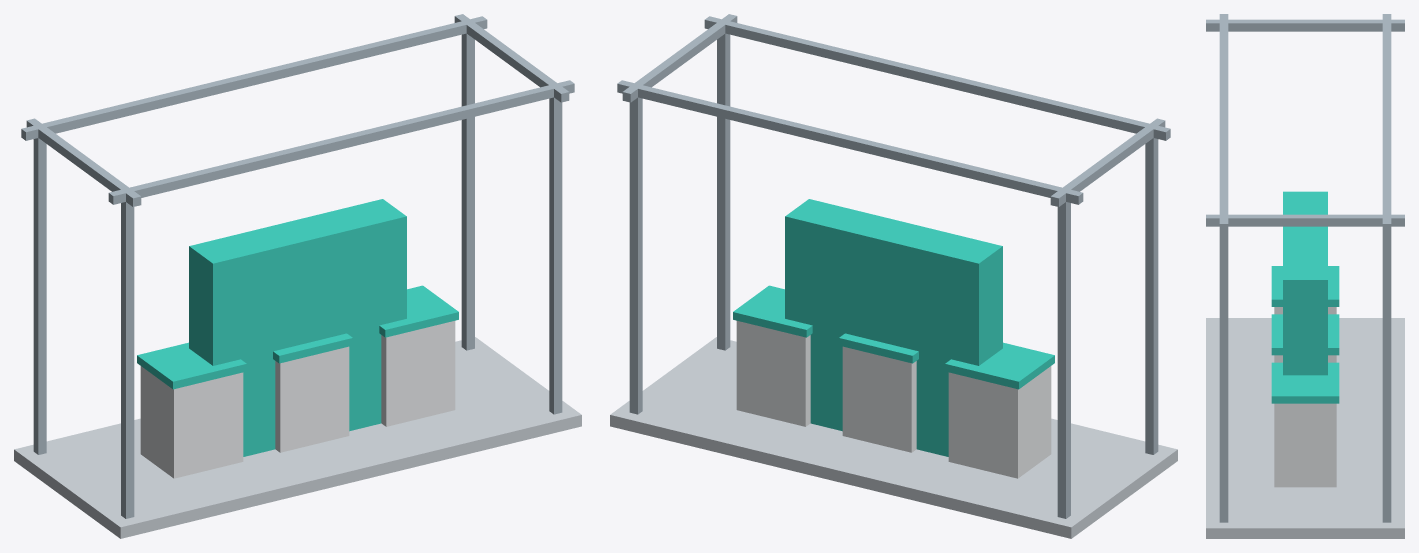
3 renders of one model, left to right at view 1: azimuth 30°, elevation 25°; view 2: azimuth 150°, elevation 25°; view 3: azimuth 270°, elevation 25°, orthographic. The views are drawn at different scales.
Visible parts, largest first — view 1: Exhibition Booth Concept; view 2: Exhibition Booth Concept; view 3: Exhibition Booth Concept.
Boxes of the visible parts, x1,y1,x2,y2 form: Exhibition Booth Concept: (14, 14, 581, 538); Exhibition Booth Concept: (610, 14, 1177, 538); Exhibition Booth Concept: (1206, 14, 1404, 538).
Bounding box in the file's own units: 5 × 3.49 × 2.
